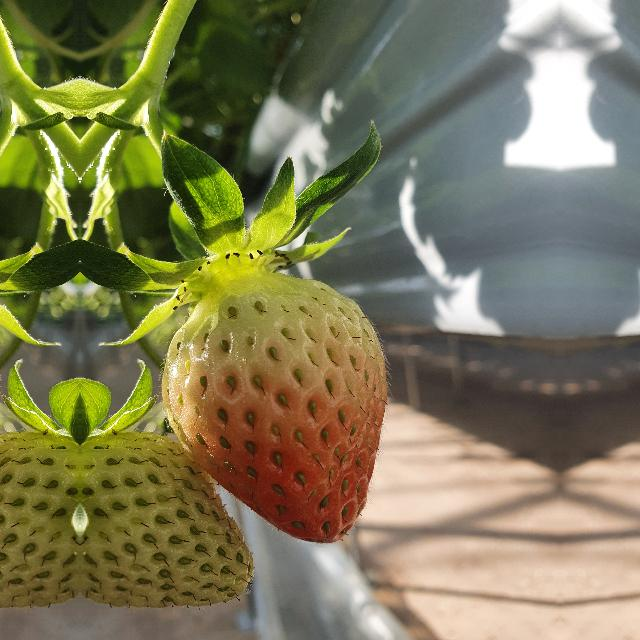Health_25: (80, 403, 254, 612), (0, 403, 80, 612)
Health_75: (161, 272, 387, 542)
